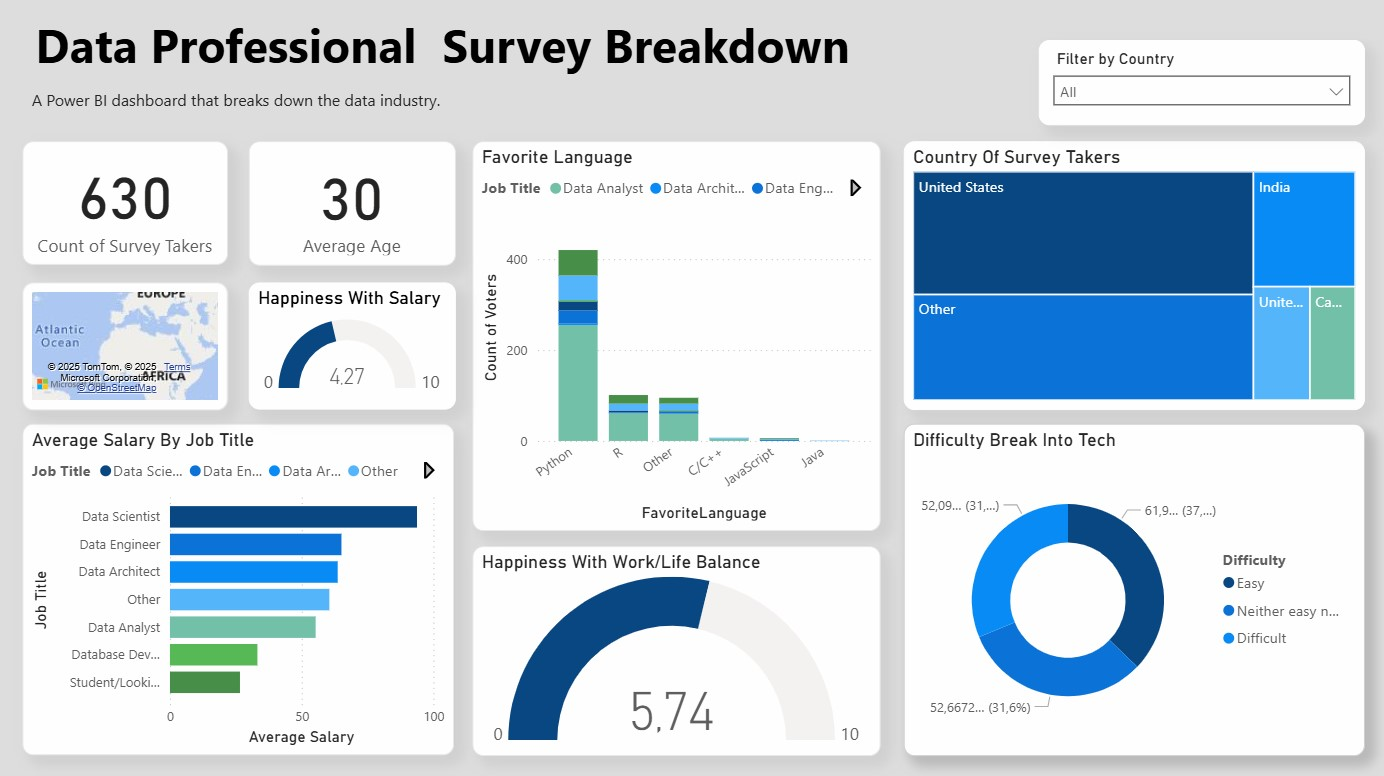

The dashboard page shown, as its layout file describes it:
{"tool":"powerbi","page":{"name":"Page 1","canvas":[1280,720],"ordinal":0},"visuals":[{"type":"textbox","box":[25.7,11.4,772.9,70],"z":0},{"type":"card","fields":{"Values":["Count(Data Professional Survey (2).Unique ID)"]},"box":[25.4,134.4,188.8,113.8],"z":1000},{"type":"card","fields":{"Values":["Avg(Data Professional Survey (2).Q10 - Current Age)"]},"box":[232.9,134.3,190,114.3],"z":2000},{"type":"barChart","title":"Average Salary By Job Title","fields":{"Category":["Data Professional Survey (2).Q1 - Which Title Best Fits your Current Role?"],"Y":["Avg(Data Professional Survey (2).Average Salary)"],"Series":["Data Professional Survey (2).Q1 - Which Title Best Fits your Current Role?"]},"box":[25.4,394.6,397,305],"z":3000},{"type":"columnChart","title":"Favorite Language","fields":{"Category":["Data Professional Survey (2).Q5 - Favorite Programming Language"],"Y":["CountNonNull(Data Professional Survey (2).Unique ID)"],"Series":["Data Professional Survey (2).Q1 - Which Title Best Fits your Current Role?"]},"box":[439.4,134.4,375.3,358.3],"z":4000},{"type":"treemap","title":"Country Of Survey Takers","fields":{"Group":["Data Professional Survey (2).Q11 - Which Country do you live in?"],"Values":["CountNonNull(Data Professional Survey (2).Q11 - Which Country do you live in?)"]},"box":[835.7,134.3,424.3,247.1],"z":5000},{"type":"gauge","title":"Happiness With Work/Life Balance","fields":{"Y":["Avg(Data Professional Survey (2).Q6 - How Happy are you in your Current Position with the following? (Work/Life Balance)"],"MinValue":["Min(Data Professional Survey (2).Q6 - How Happy are you in your Current Position with the following? (Work/Life Balance)"],"MaxValue":["Max(Data Professional Survey (2).Q6 - How Happy are you in your Current Position with the following? (Work/Life Balance)"]},"box":[439.4,507.2,375.3,192.5],"z":6000},{"type":"gauge","title":"Happiness With Salary","fields":{"Y":["Avg(Data Professional Survey (2).Q6 - How Happy are you in your Current Position with the following? (Salary))"],"MinValue":["Min(Data Professional Survey (2).Q6 - How Happy are you in your Current Position with the following? (Salary))"],"MaxValue":["Max(Data Professional Survey (2).Q6 - How Happy are you in your Current Position with the following? (Salary))1"]},"box":[232.9,264.3,190,117.1],"z":7000},{"type":"donutChart","title":"Difficulty Break Into Tech","fields":{"Y":["Avg(Data Professional Survey (2).Average Salary)"],"Category":["Data Professional Survey (2).Q7 - How difficult was it for you to break into Data?"]},"box":[835.7,394.3,424.3,305.7],"z":8000},{"type":"filledMap","box":[25.4,263.9,188.8,117.4],"z":9000},{"type":"slicer","fields":{"Values":["Data Professional Survey (2).Q11 - Which Country do you live in?"]},"box":[960,41.4,300,78.6],"z":10000},{"type":"textbox","box":[28.6,81.4,598.6,38.6],"z":11000}]}

Visuals, with their boxes in screenshot pixels (x1, y1, x2, y2), scaled from the page's 1280x720 canvas onto the 1384x776 screenshot:
textbox: <bbox>28, 12, 863, 88</bbox>
card - Count(Data Professional Survey (2).Unique ID): <bbox>27, 145, 232, 268</bbox>
card - Avg(Data Professional Survey (2).Q10 - Current Age): <bbox>252, 145, 457, 268</bbox>
"Average Salary By Job Title" barChart: <bbox>27, 425, 457, 754</bbox>
"Favorite Language" columnChart: <bbox>475, 145, 881, 531</bbox>
"Country Of Survey Takers" treemap: <bbox>904, 145, 1362, 411</bbox>
"Happiness With Work/Life Balance" gauge: <bbox>475, 547, 881, 754</bbox>
"Happiness With Salary" gauge: <bbox>252, 285, 457, 411</bbox>
"Difficulty Break Into Tech" donutChart: <bbox>904, 425, 1362, 754</bbox>
filledMap: <bbox>27, 284, 232, 411</bbox>
slicer - Data Professional Survey (2).Q11 - Which Country do you live in?: <bbox>1038, 45, 1362, 129</bbox>
textbox: <bbox>31, 88, 678, 129</bbox>
